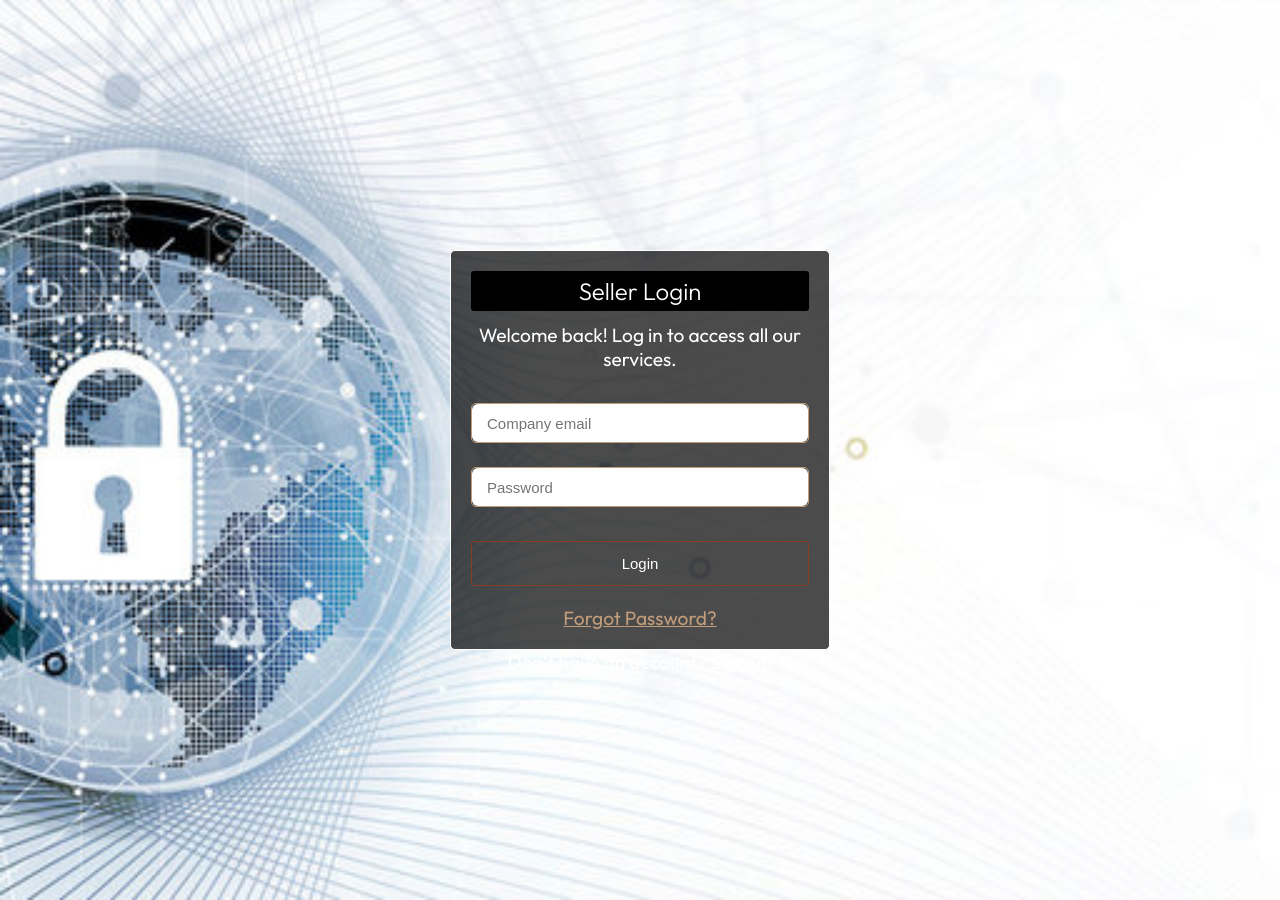
Seller_login Component › should show validation error for missing password
The width and height of the screenshot is (1280, 900).
Type "seller@example.com" into the field with placeholder "Company email" at (640,423), box [472,404,808,442]
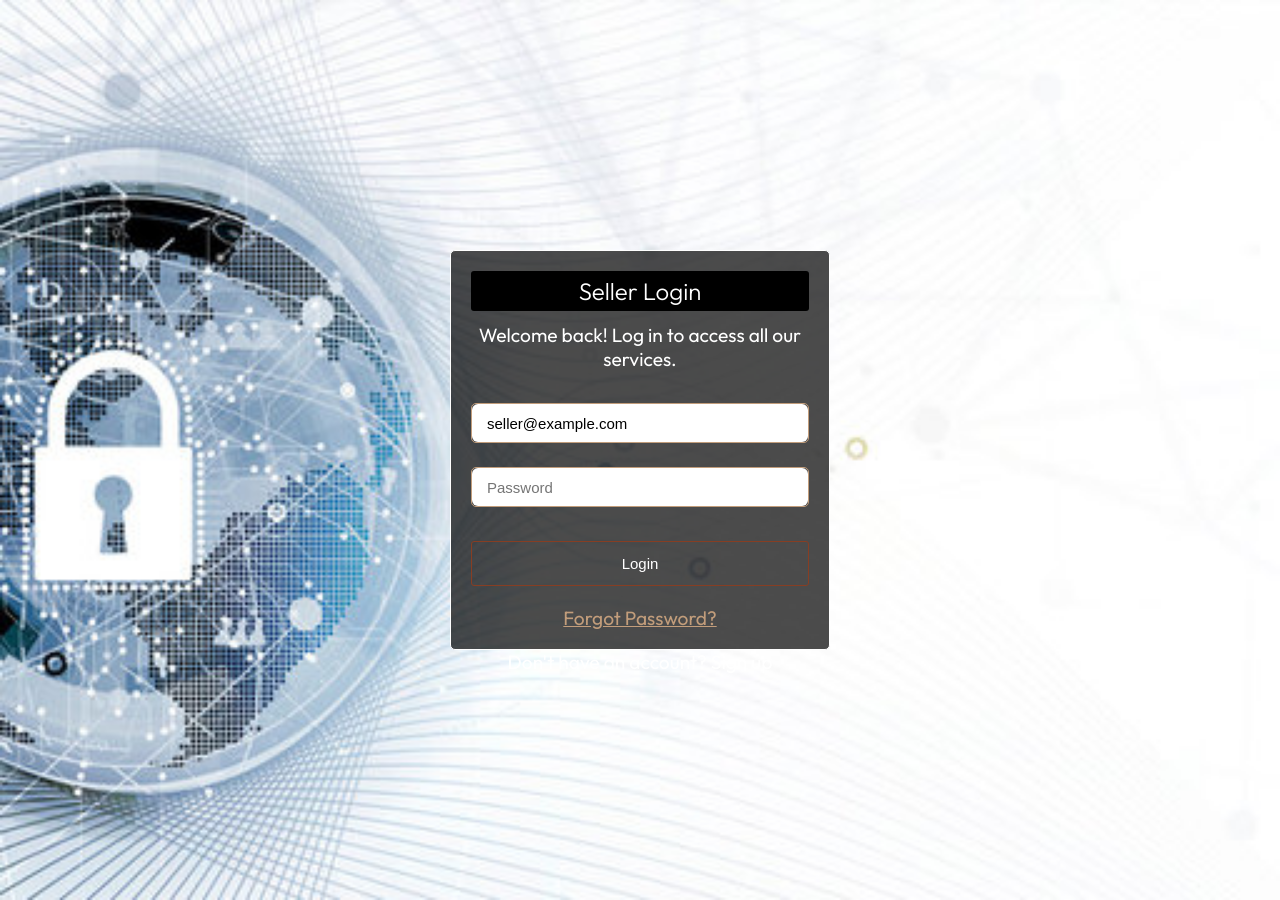
Click the button "Login" at (640,564), box [471,541,809,586]
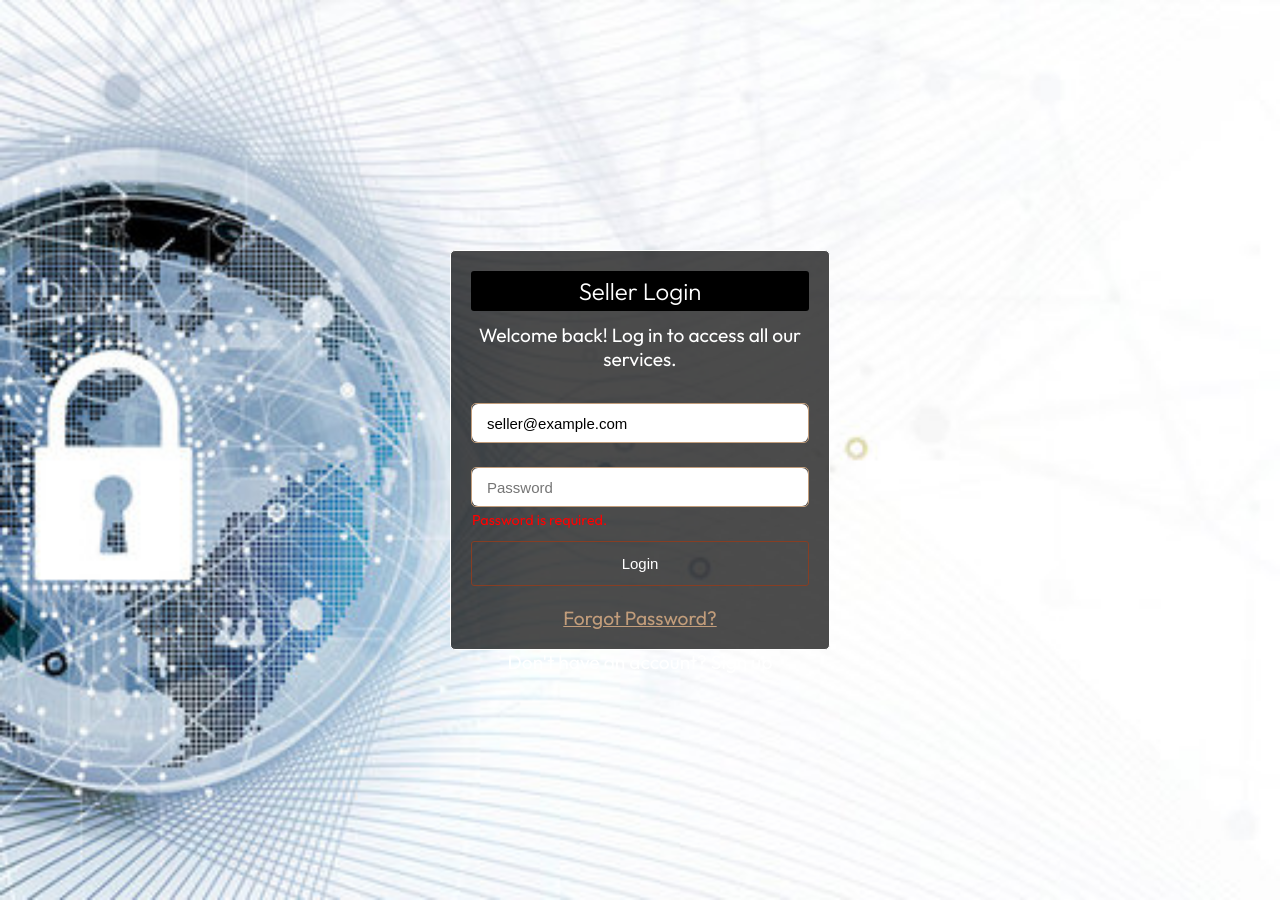
Now the text "Password is required." is shown, box [472,511,607,529]
